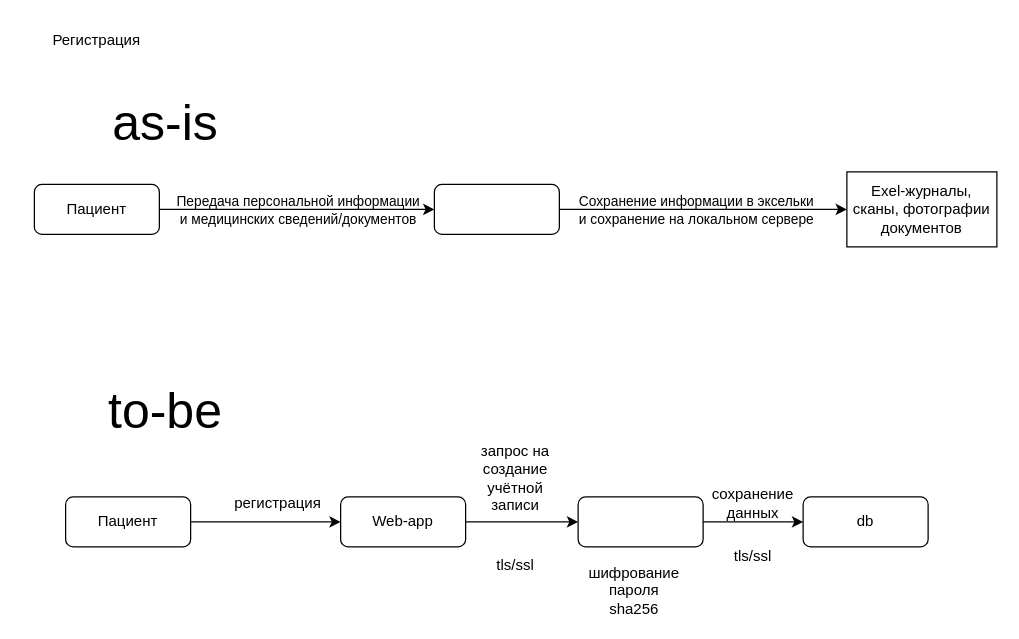
Image size: 1019x639. Some labels were removed from this diagram. The shapes that lost their labels are listed below. From the top down, each one's centre as x and y in pixels, then its label:
the point at 496,208: Ресепшен
the point at 640,521: backend
